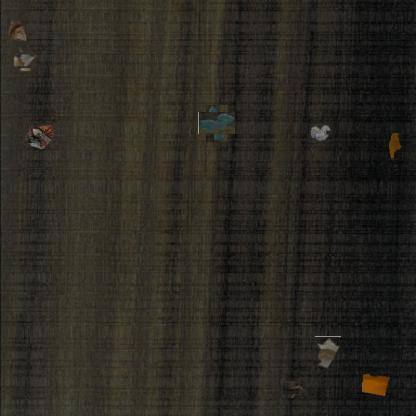dirty: (315, 336, 341, 369), (23, 123, 55, 149), (362, 374, 390, 396), (308, 122, 332, 142), (7, 19, 27, 40), (14, 50, 35, 70), (285, 379, 301, 396)
liquid: (202, 109, 232, 138), (388, 133, 402, 159)
